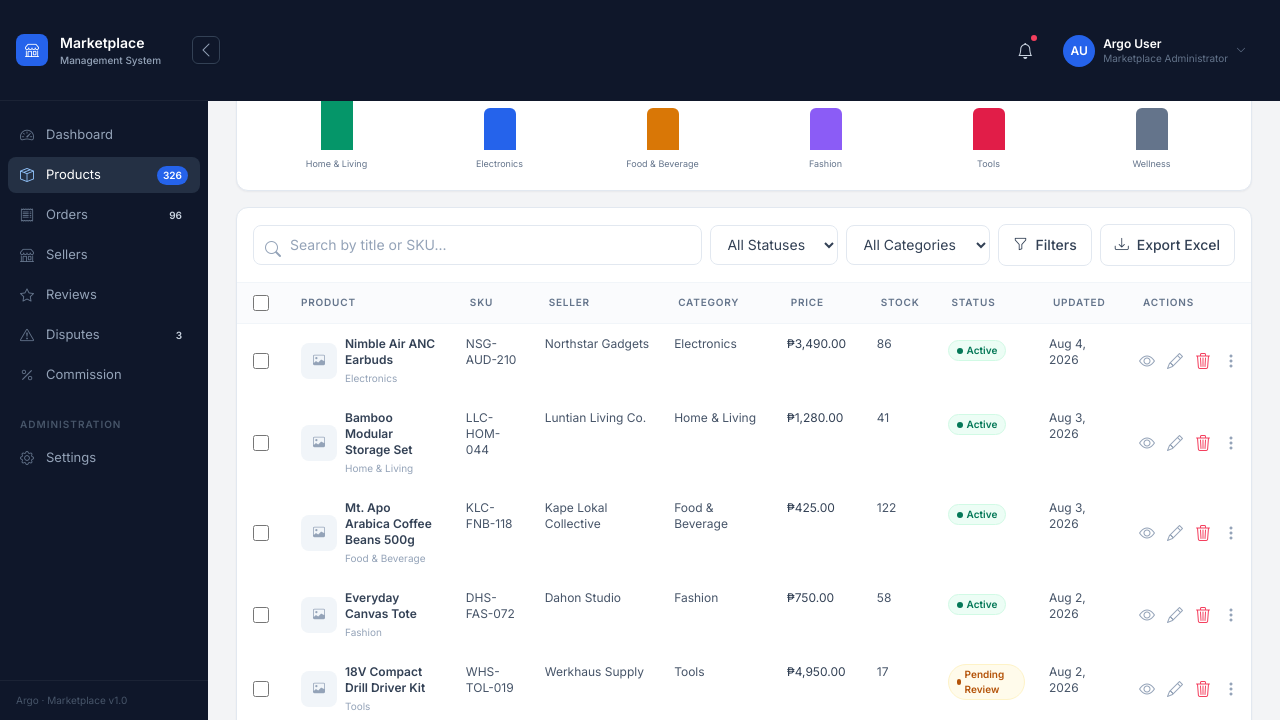
Test: opens category correction in the product edit form
(page scrolled)
Click the button named "Edit product " at (1175, 360), box [1167, 348, 1183, 372]
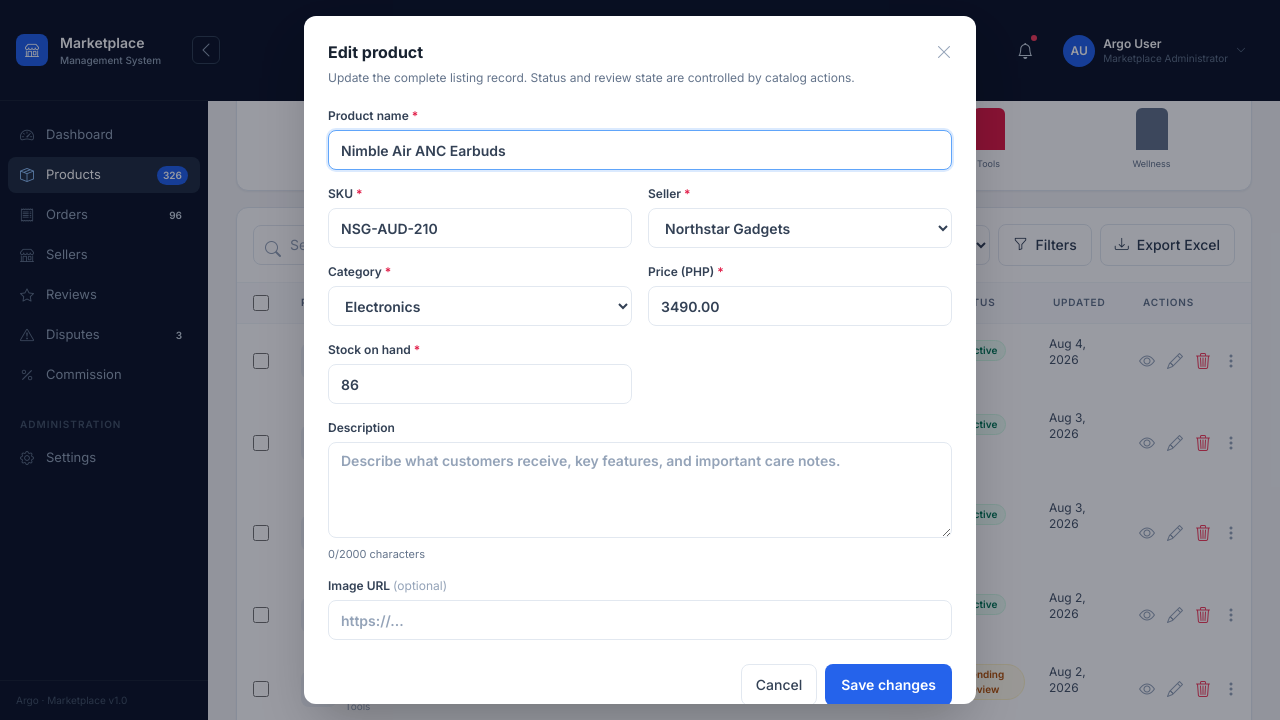
Expected: the field labelled "Product name *" is shown, [328, 130, 952, 170]
Expected: the field labelled "SKU *" is shown, [328, 208, 632, 248]
Expected: the dropdown labelled "Seller *" is shown, [648, 208, 952, 248]
